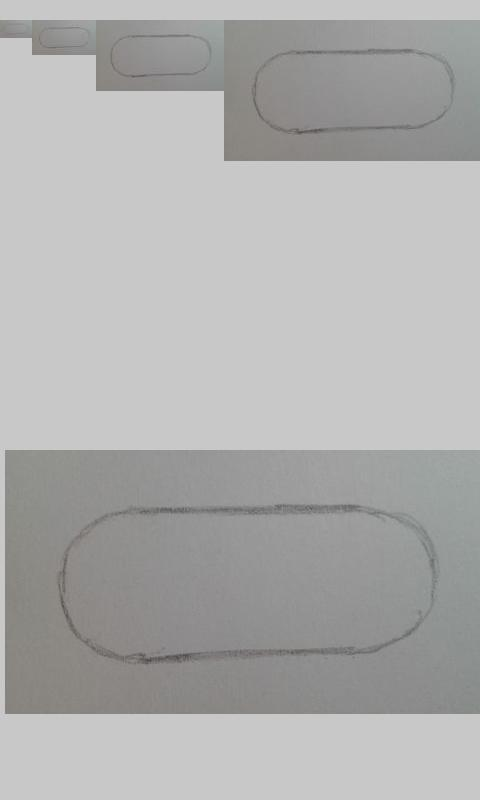chip: (58, 502, 438, 666), (252, 48, 457, 134), (108, 34, 213, 78), (38, 26, 92, 49), (1, 22, 30, 36)
